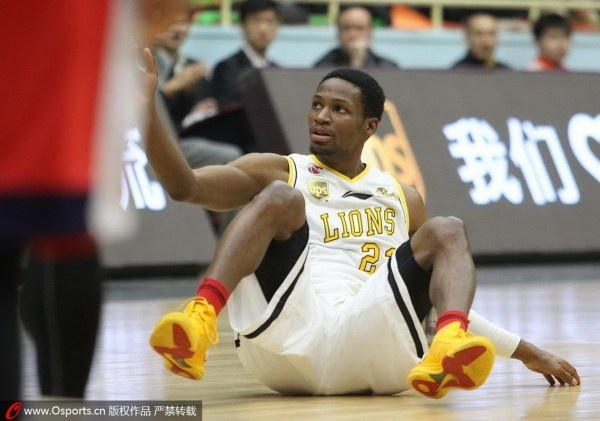falling: (125, 56, 596, 403)
